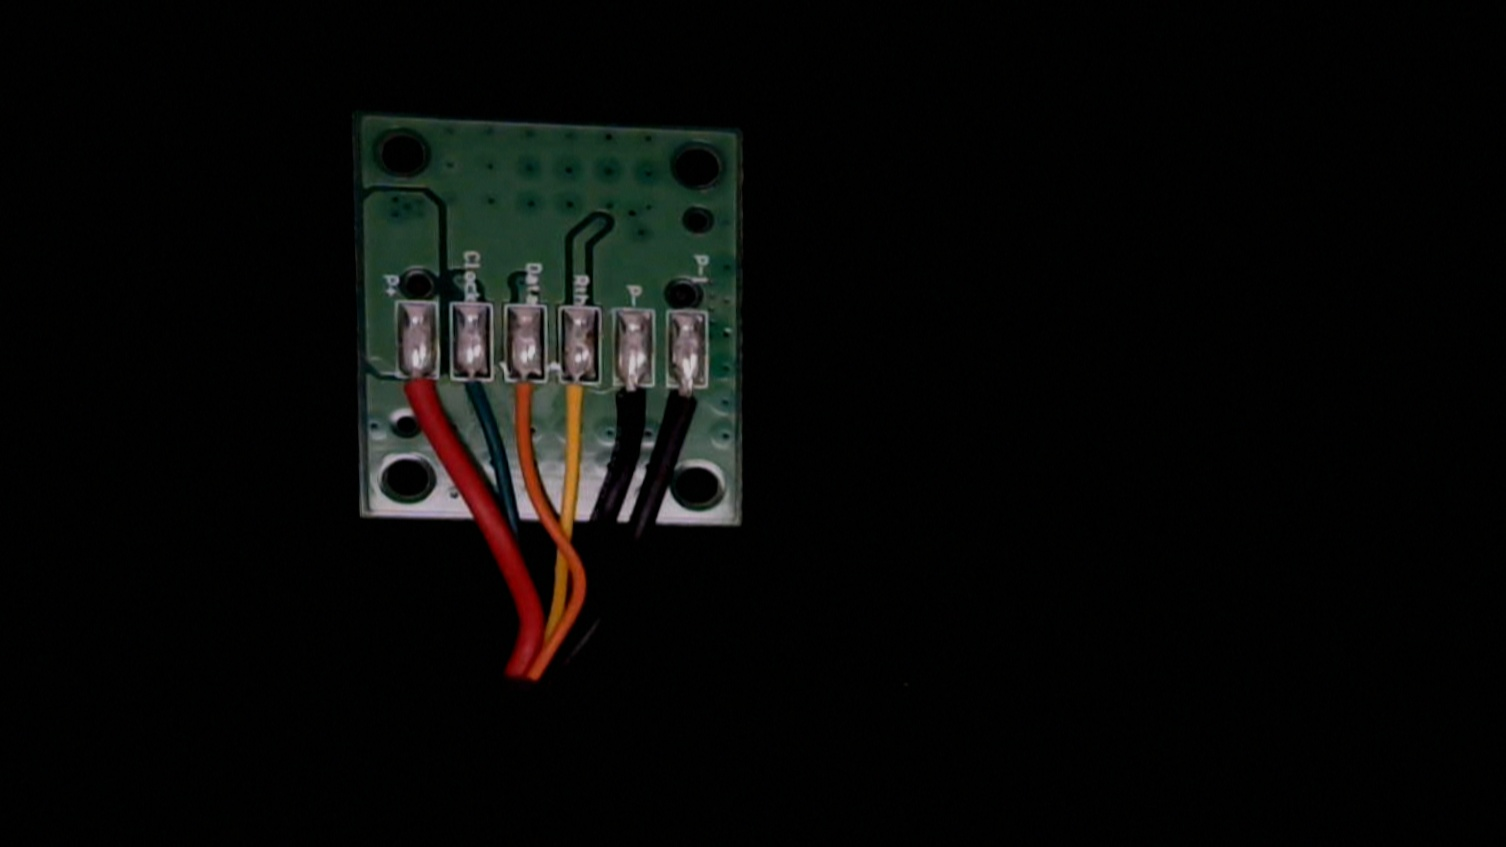Black: (608, 368, 658, 438)
Black1: (666, 366, 712, 428)
Green: (450, 365, 496, 424)
Orange: (507, 362, 549, 443)
Red: (398, 362, 443, 434)
Yellow: (552, 361, 598, 447)
